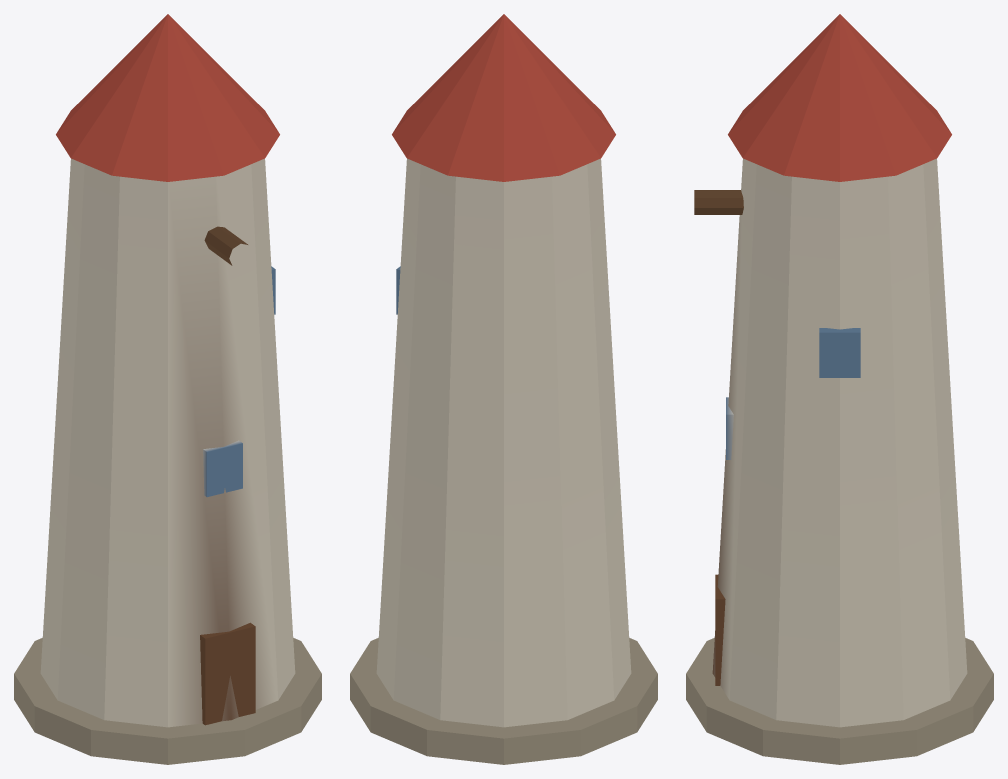
File: windmill_0.glb
3 renders of one model, left to right at view 1: azimuth 30°, elevation 25°; view 2: azimuth 150°, elevation 25°; view 3: azimuth 270°, elevation 25°, orthographic.
Parts seen in each view (by area): view 1: windmill_0; view 2: windmill_0; view 3: windmill_0.
Part boxes in pixels (bbox=[...]): windmill_0: bbox=[14, 14, 321, 764]; windmill_0: bbox=[350, 14, 657, 764]; windmill_0: bbox=[686, 14, 993, 764].
Bounding box in the file's own units: 3.7 × 9.1 × 3.7.
